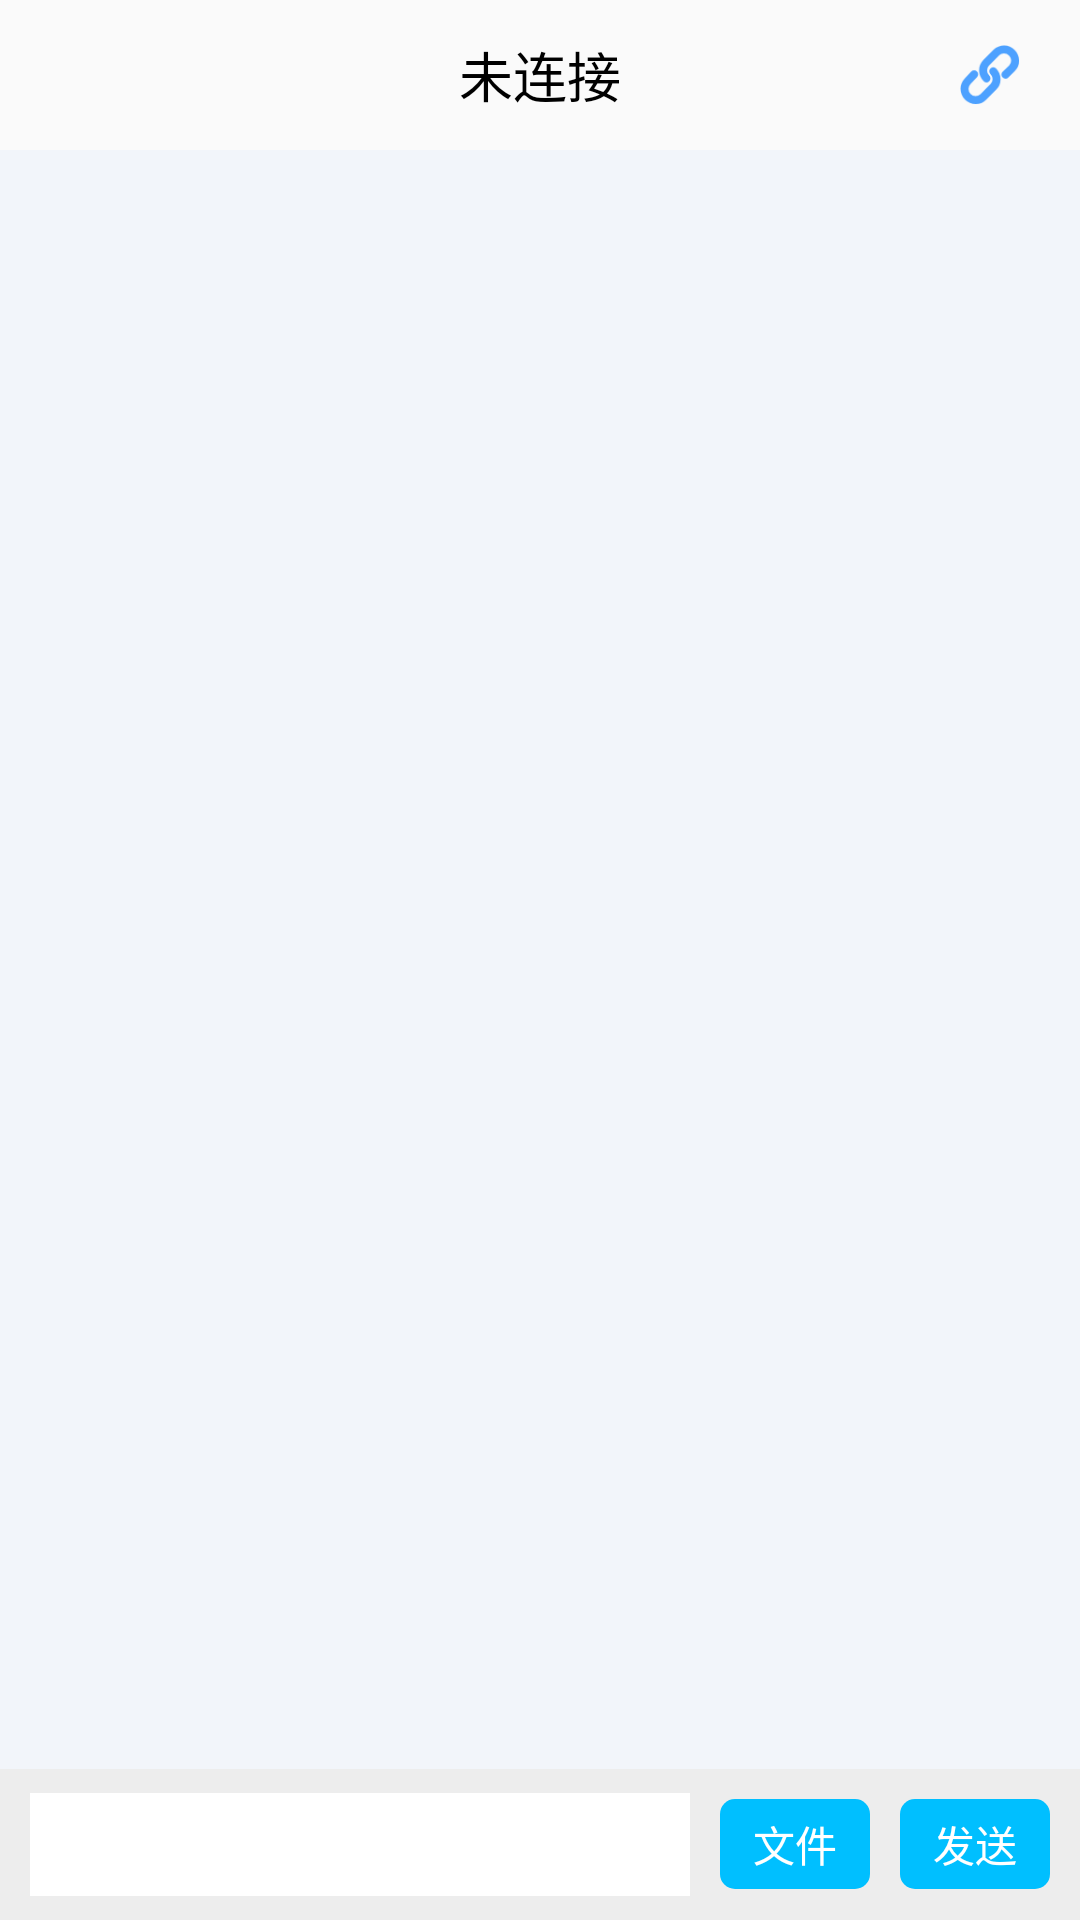

Icon click points for this 1080×1920 phone screenshot, format (x=x, y=y):
connect: (x=989, y=74)
